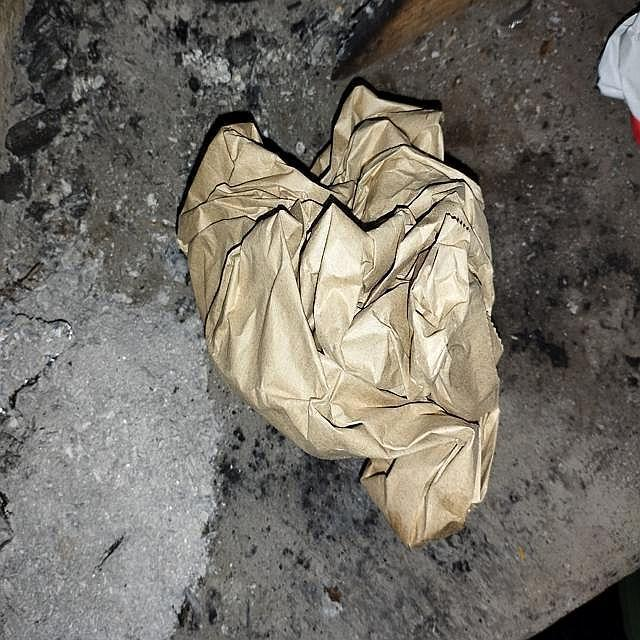Biodegradable: (181, 87, 501, 543)
